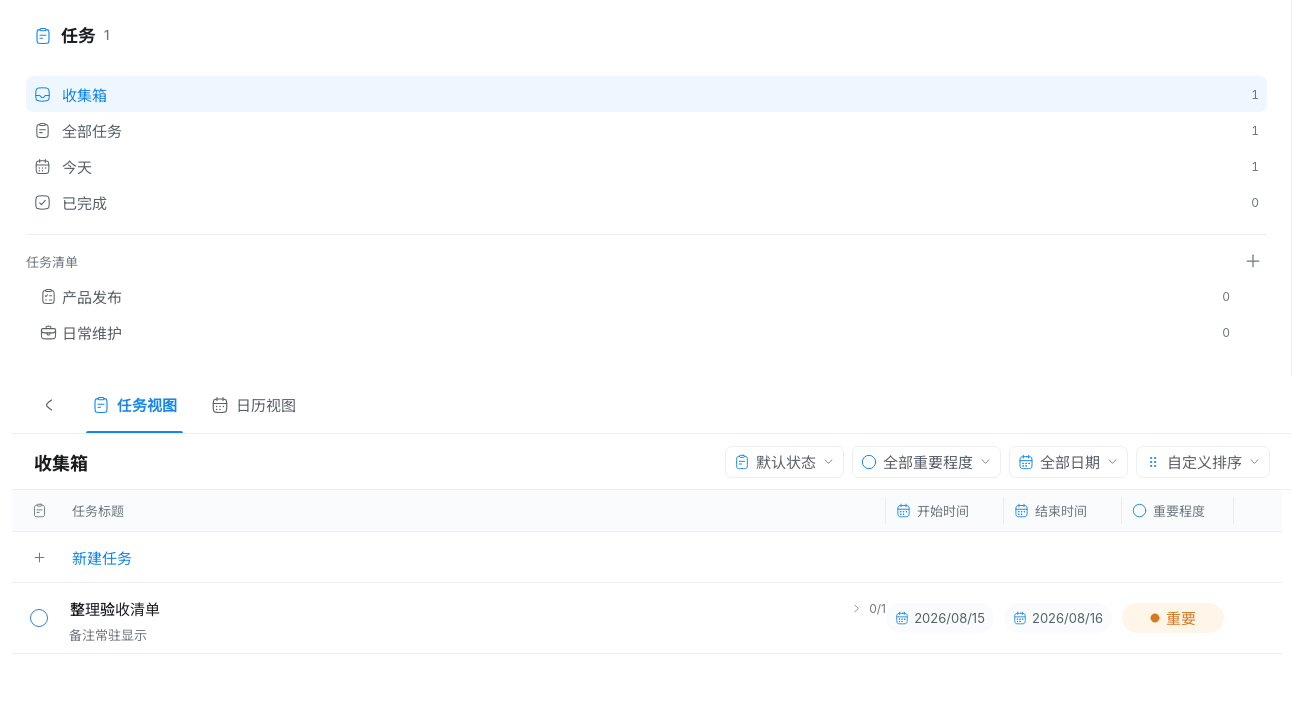
it: TaskWorkspace › shows the list column only in global task scopes
This screenshot has width=1292, height=720.
Expected: the field showing "整理验收清单" is shown, [62,591,844,625]
Expected: the text "所属清单" is not shown
Click the text "全部任务": (92, 131) [62,122,122,140]
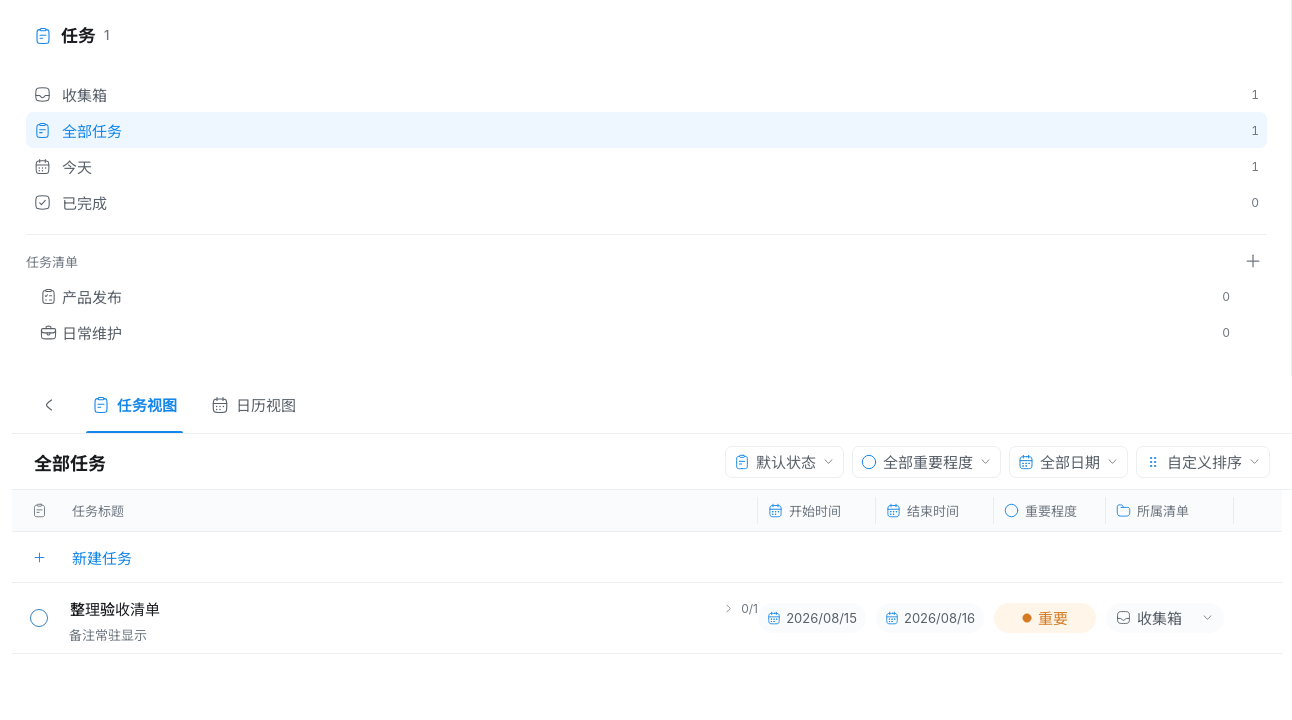
Result: the text "所属清单" is shown at [1137,501,1189,520]
